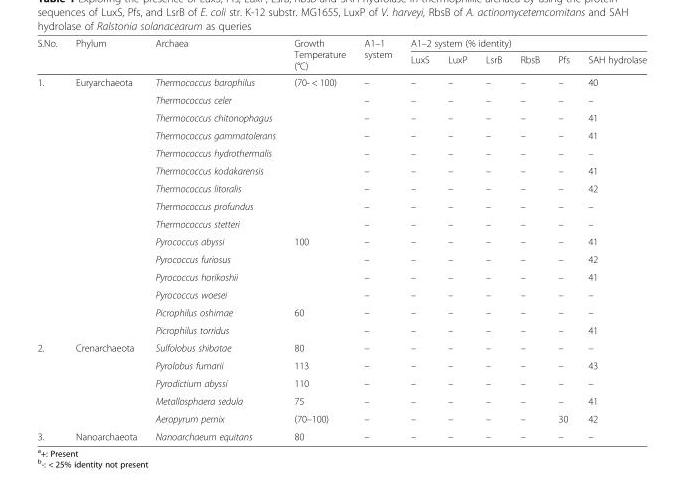table: (36, 36, 646, 441)
table column: (145, 36, 284, 441), (65, 36, 145, 441), (284, 36, 354, 441), (578, 36, 646, 441), (354, 36, 400, 441), (400, 36, 438, 441), (510, 36, 548, 441), (438, 36, 475, 441), (475, 36, 510, 441), (548, 36, 578, 441), (36, 36, 65, 441)
table column header: (36, 36, 646, 73)
table row: (36, 50, 646, 73), (36, 90, 646, 108), (36, 108, 646, 126), (36, 143, 646, 161), (36, 161, 646, 179), (36, 196, 646, 214), (36, 214, 646, 232), (36, 232, 646, 250), (36, 267, 646, 285), (36, 285, 646, 303), (36, 320, 646, 338), (36, 338, 646, 356), (36, 356, 646, 374), (36, 391, 646, 409), (36, 409, 646, 427), (36, 73, 646, 90), (36, 126, 646, 143), (36, 179, 646, 196), (36, 250, 646, 267), (36, 303, 646, 320), (36, 374, 646, 391), (36, 36, 646, 50), (36, 427, 646, 441)
table spanning cell: (65, 73, 145, 338), (284, 73, 354, 232), (36, 73, 65, 338), (65, 338, 145, 427), (145, 36, 284, 73), (284, 232, 354, 303), (400, 36, 646, 50), (65, 36, 145, 73), (284, 36, 354, 73), (36, 338, 65, 427), (284, 303, 354, 338), (354, 36, 400, 73), (36, 36, 65, 73)
